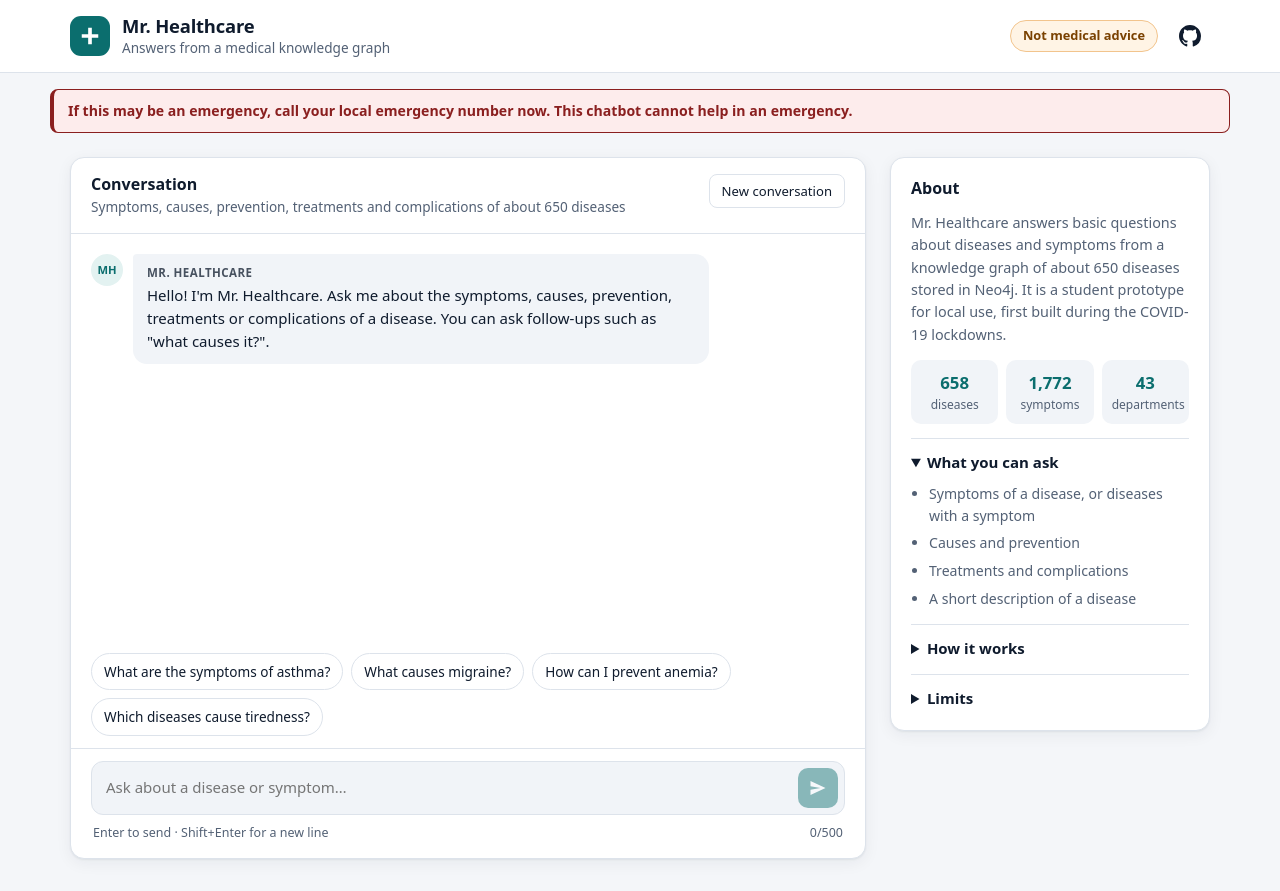
Test case: App › shows API errors and lets the user try again
Type "q1" into the text box with placeholder "Ask about a disease or symptom…" at (448, 788), box [106,768,790,808]
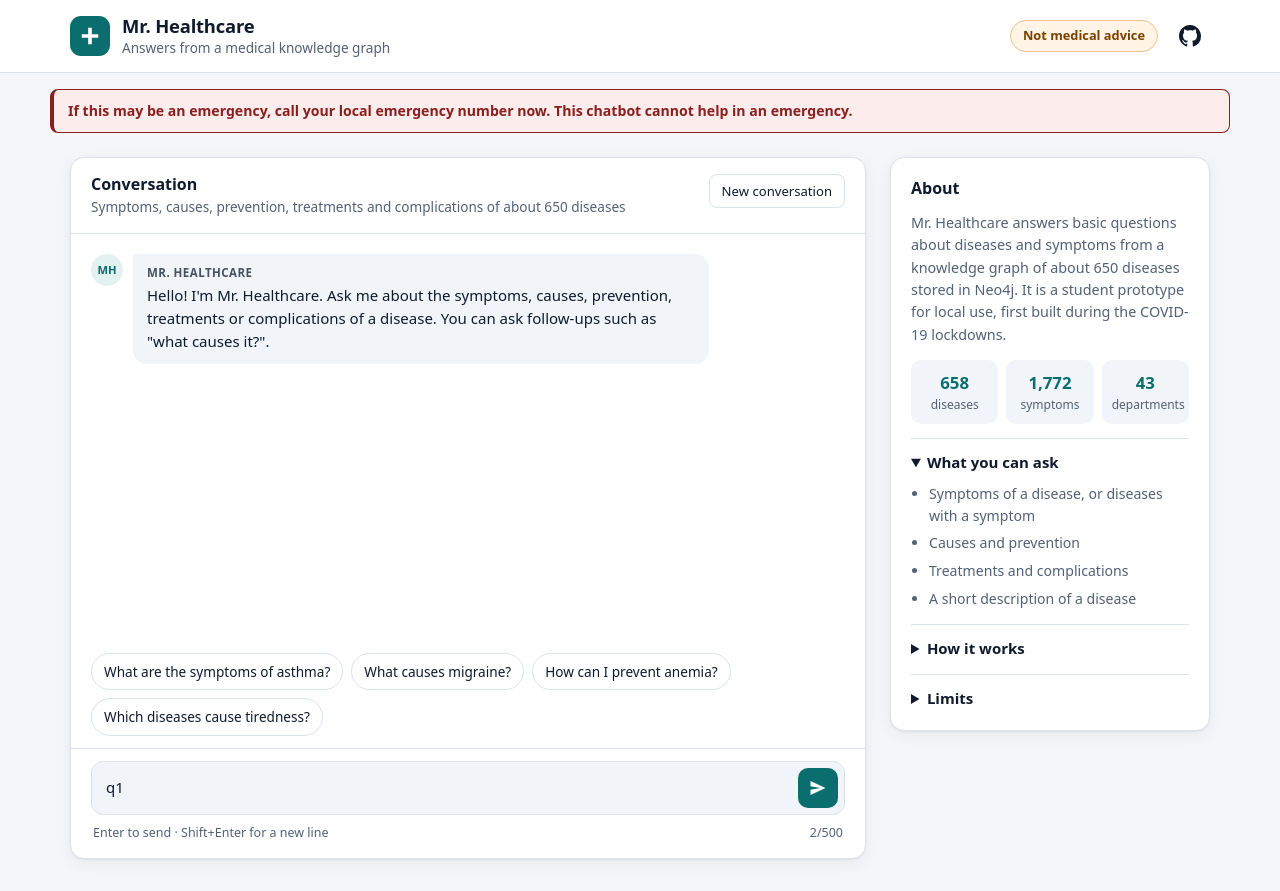
Press Enter in the text box, box [106,768,790,808]
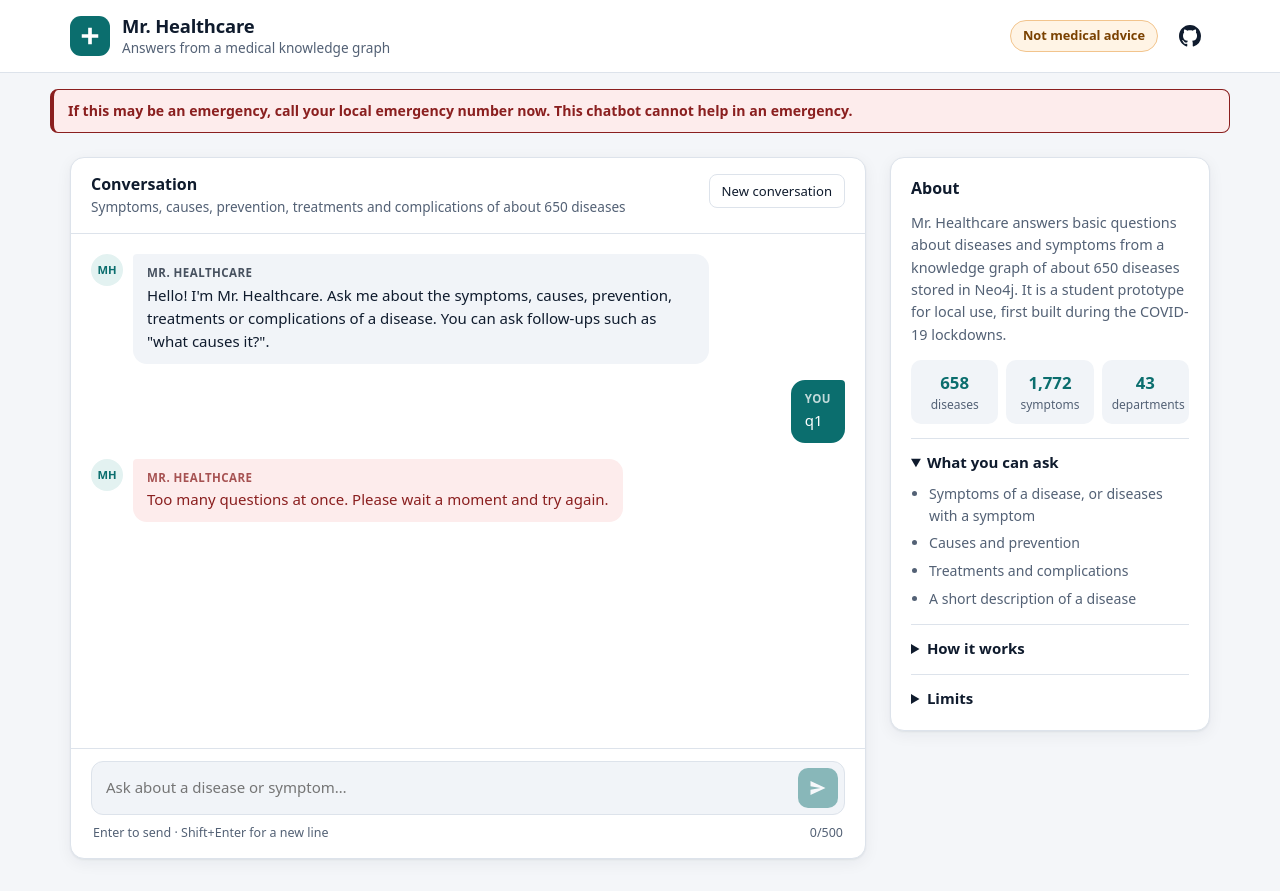
Now the text "Too many questions" is shown, box [147,490,608,510]
Now the list item with class "is-error" is shown, box [91,459,709,522]
Type "q2" into the text box with placeholder "Ask about a disease or symptom…" at (448, 788), box [106,768,790,808]
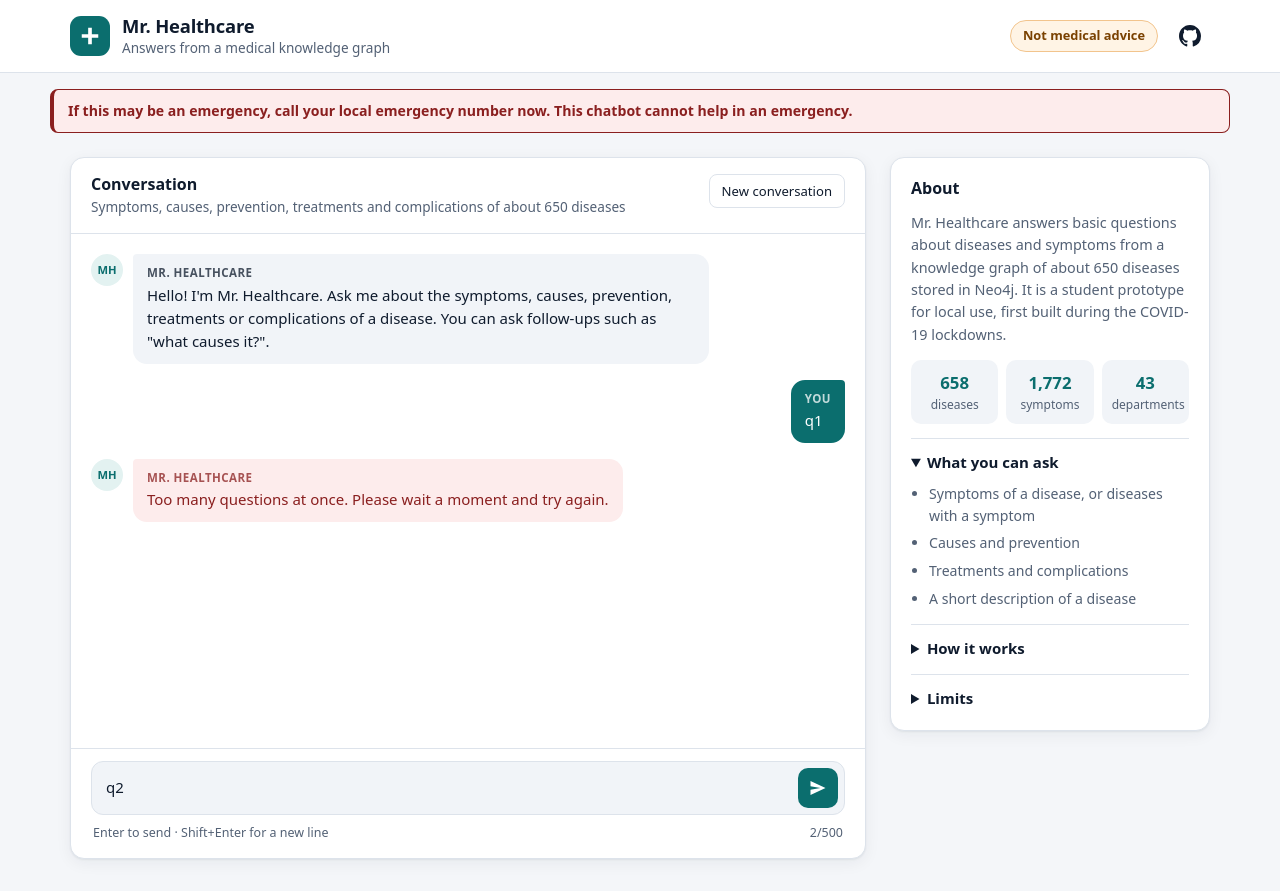
Press Enter in the text box, box [106,768,790,808]
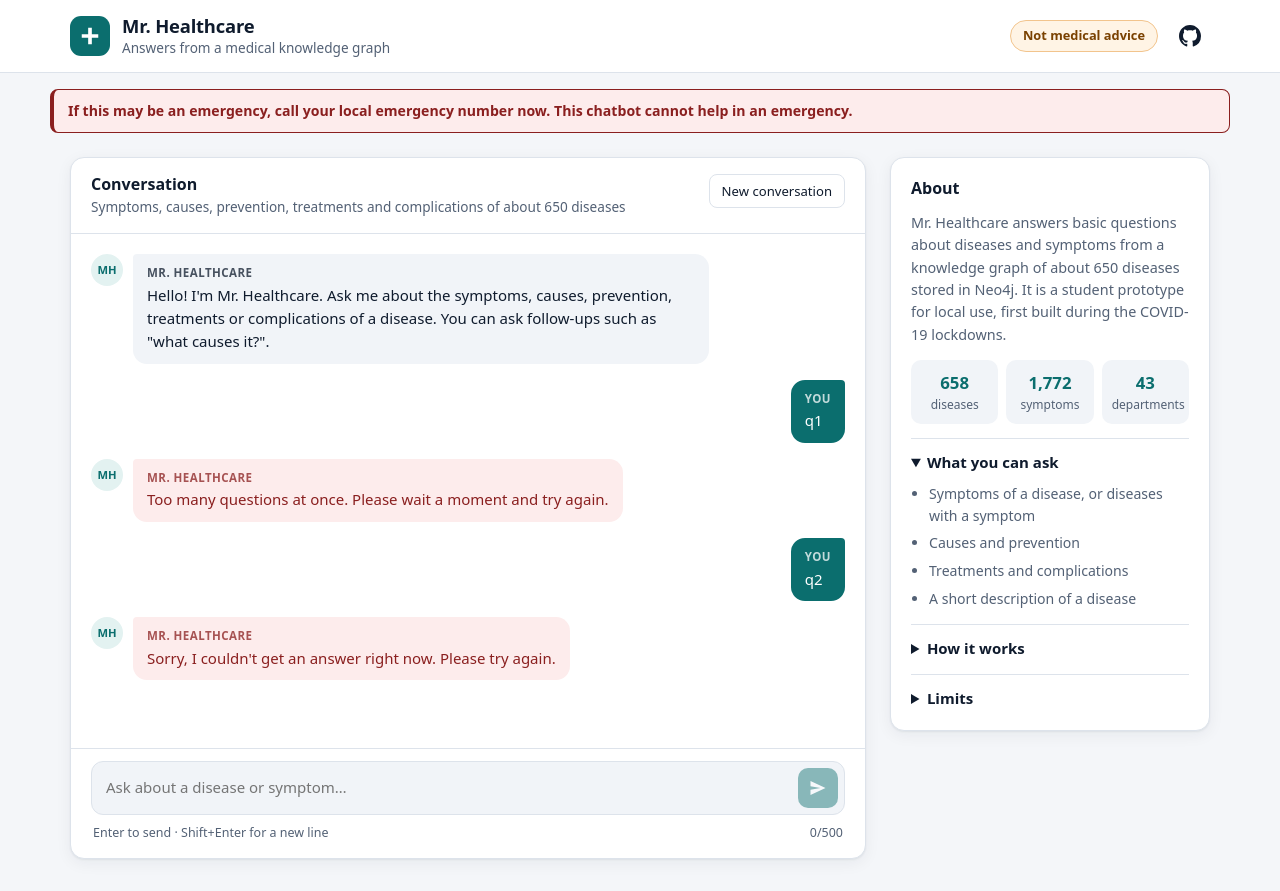
Now the text "couldn't get an answer" is shown, box [147,648,556,668]
